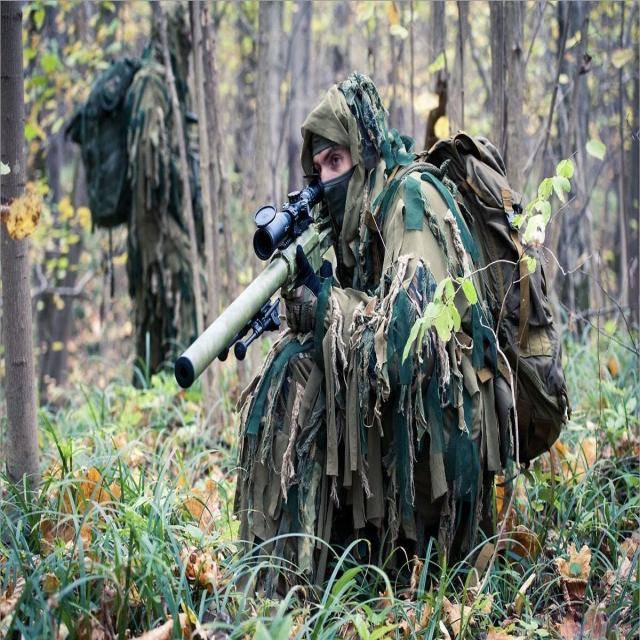Human: (173, 74, 574, 594)
